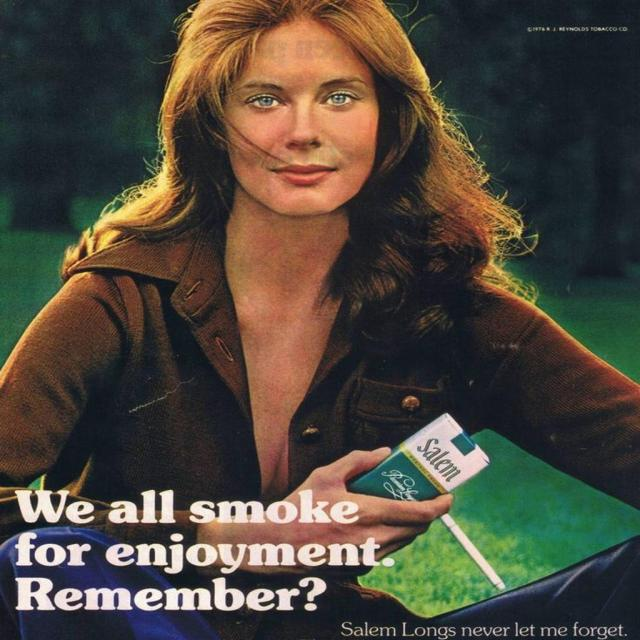smoking: (90, 5, 536, 599)
